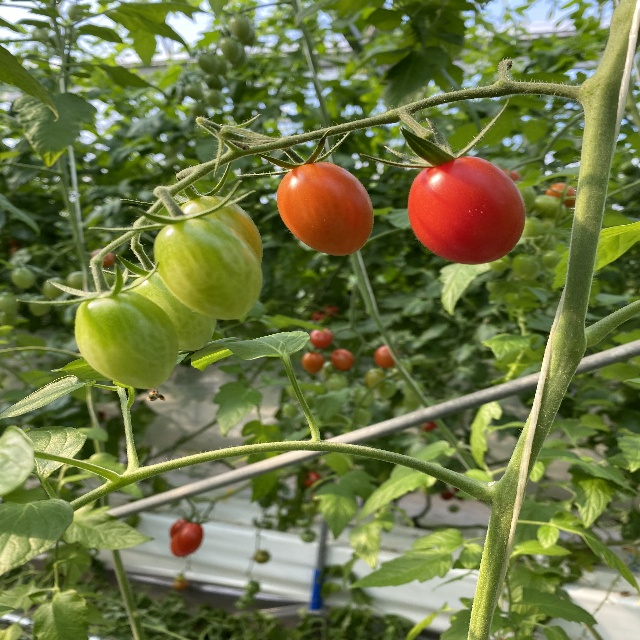l_fully_ripened: (407, 156, 527, 265)
l_green: (153, 214, 263, 320), (74, 290, 181, 389), (126, 272, 218, 351), (173, 195, 263, 266)
l_half_ripened: (277, 161, 374, 256)
